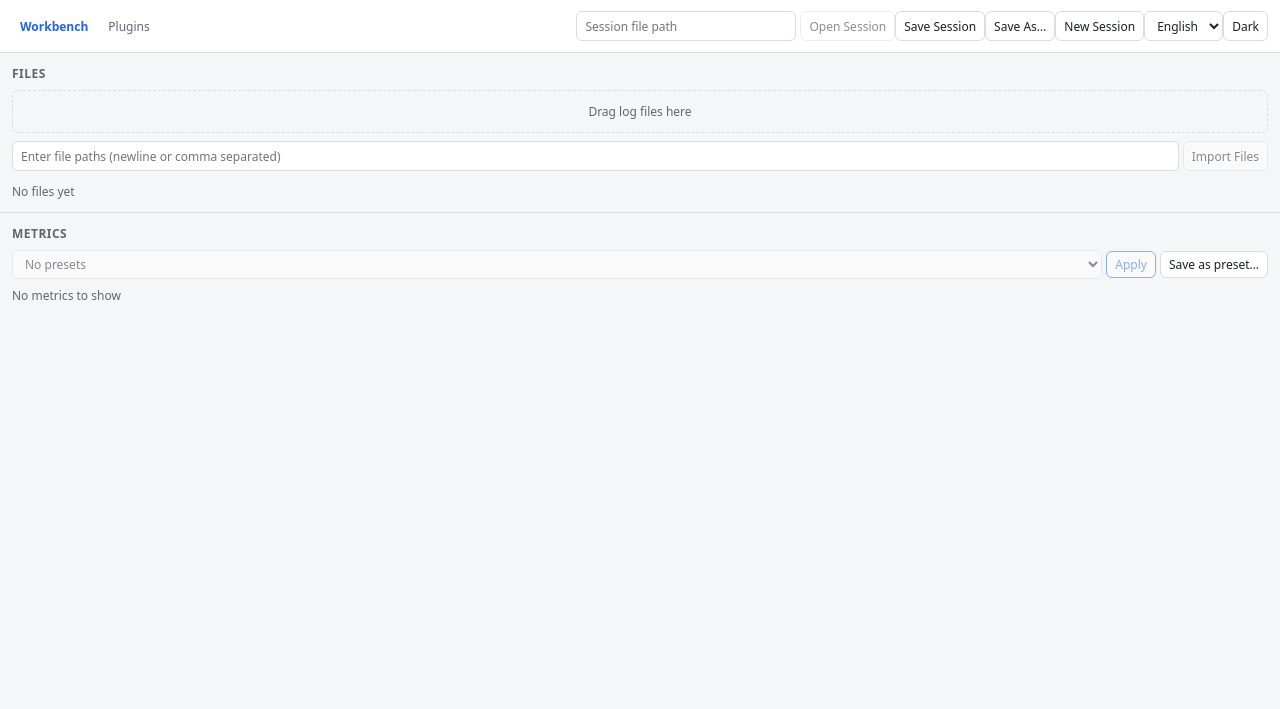
Test case: 会话快照（契约 C1） › 打开会话恢复快照（选择/视口/游标），恢复视口优先于自动适配
Type "C:\\sessions\\a.absession" into the field labelled "Session file path" at (686,26), box [576,11,796,41]
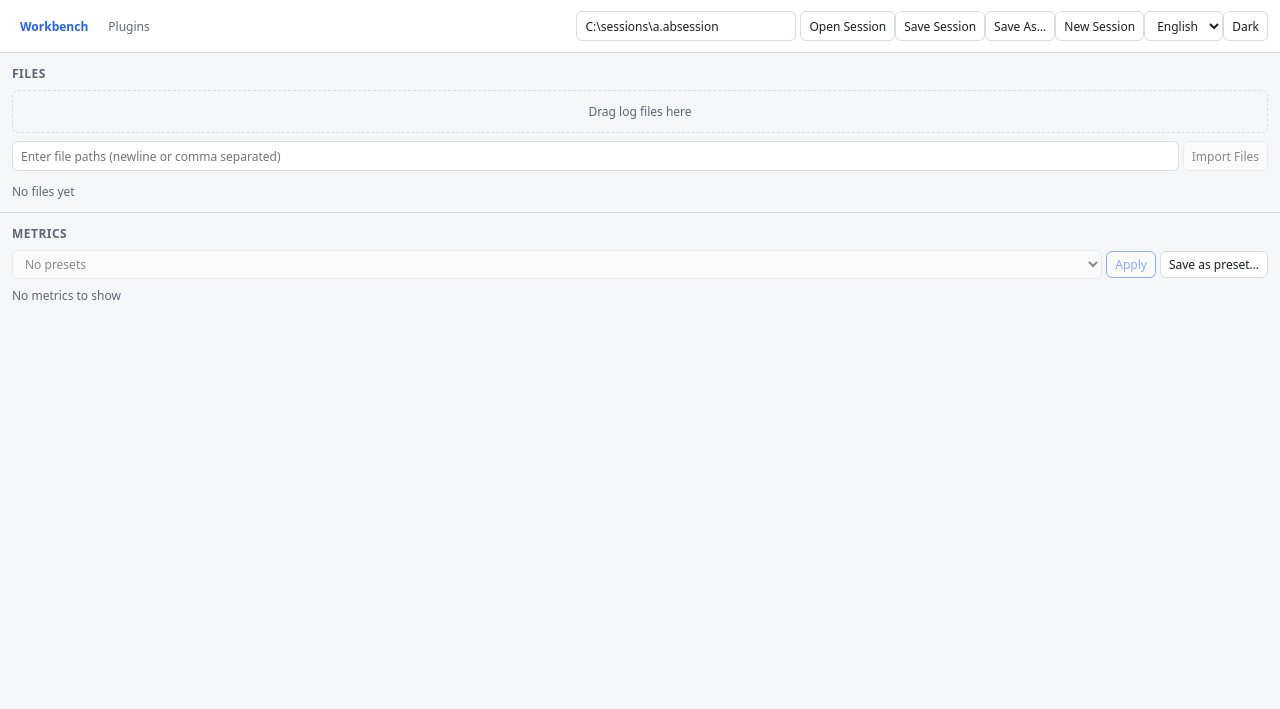
Click the button "Open Session" at (848,26), box [800,11,895,41]
Wait 11000 ms
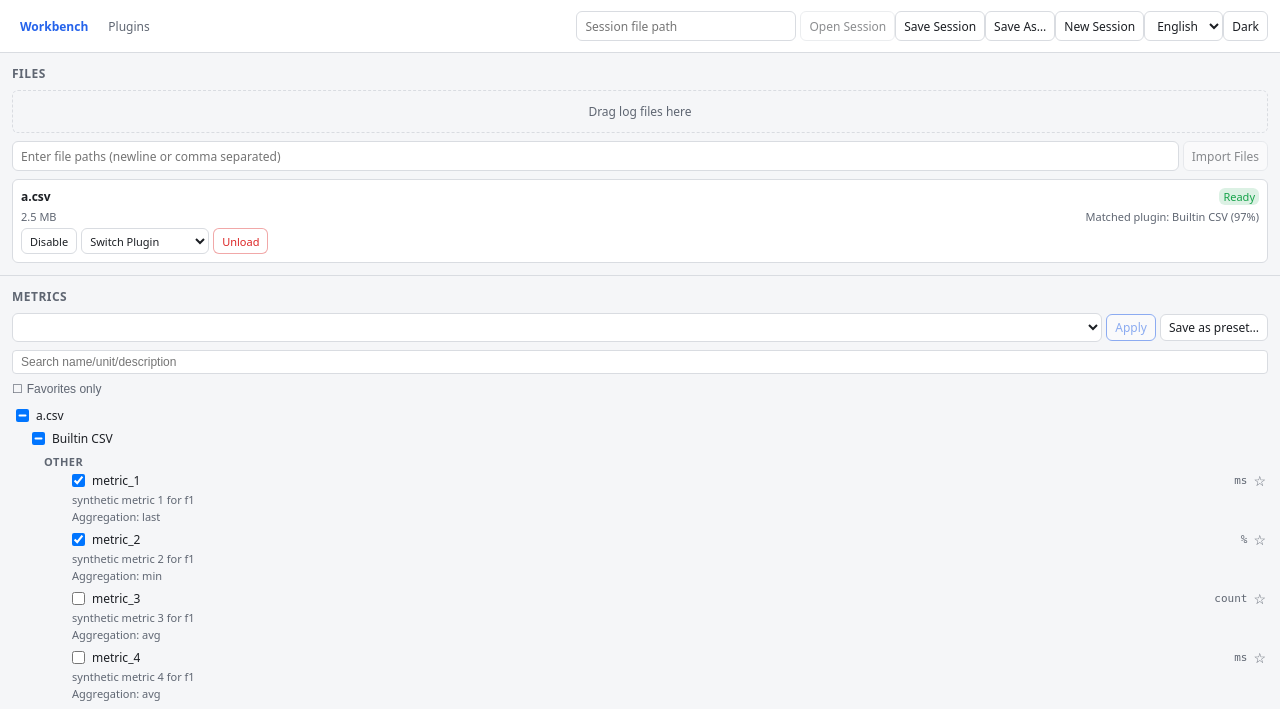
expect the checkbox labelled "metric_1 ms" is checked: met, box [72,474,85,487]
expect the checkbox labelled "metric_2 %" is checked: met, box [72,533,85,546]
